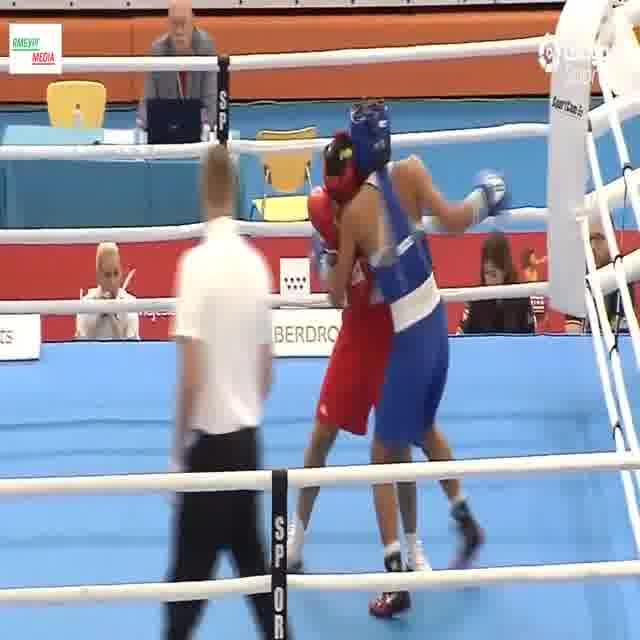blue-player: (304, 98, 511, 622)
red-player: (268, 122, 444, 592)
referee: (159, 143, 293, 640)
